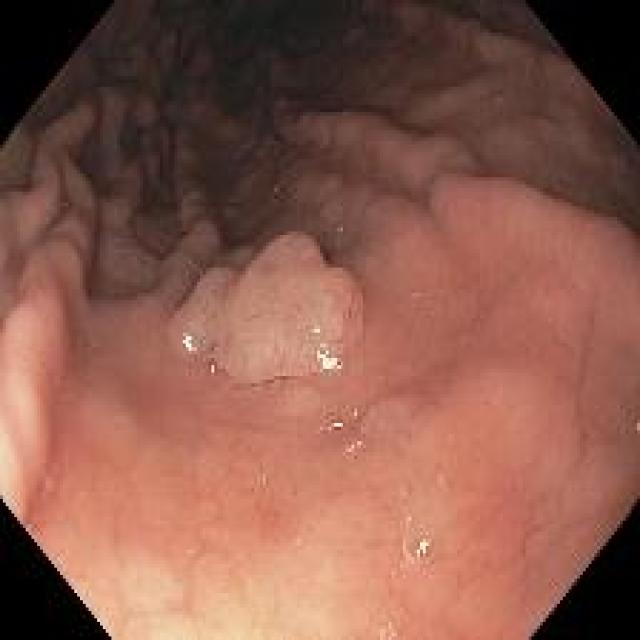Polyps: (169, 234, 364, 388)
